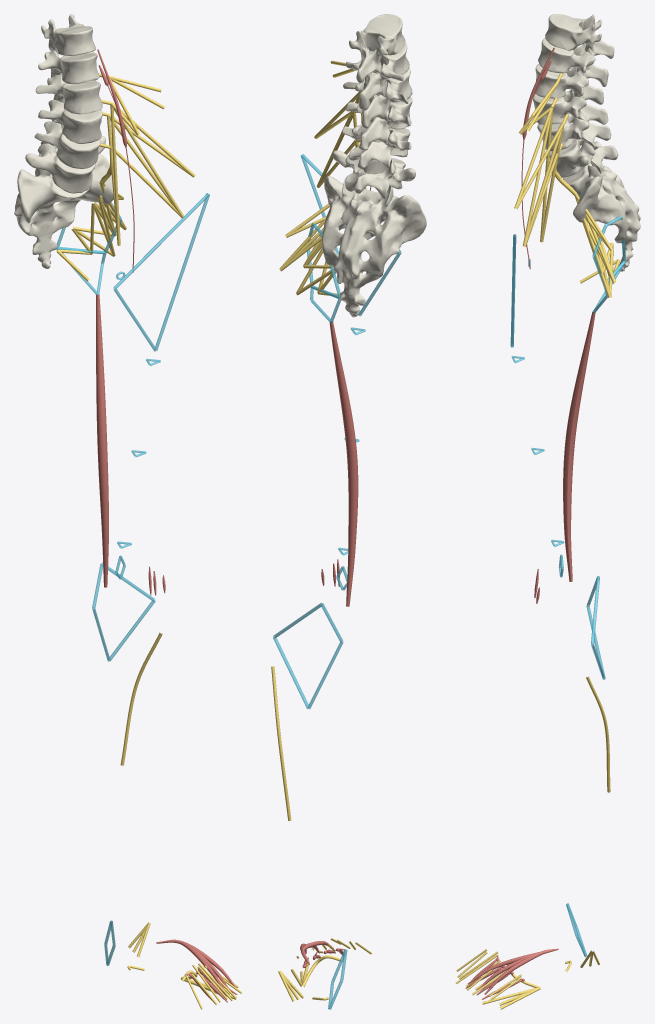
File: lower-neuro-muscle-regions.glb
3 renders of one model, left to right at view 1: azimuth 30°, elevation 25°; view 2: azimuth 150°, elevation 25°; view 3: azimuth 270°, elevation 25°, orthographic. The views are drawn at different scales.
Visible parts, largest first — view 1: reference-sacrum, gap-hamstring-part-of-adductor-magnus--part-0-0, reference-fifth-lumbar-vertebra, reference-second-lumbar-vertebra, reference-third-lumbar-vertebra, reference-fourth-lumbar-vertebra, reference-twelfth-thoracic-vertebra, reference-first-lumbar-vertebra, gap-femoral-triangle--part-1-0, gap-psoas-minor--part-0-0, gap-fibular-communicating-branch--part-0-0, gap-lumbar-plexus--part-13-0; view 2: reference-sacrum, gap-hamstring-part-of-adductor-magnus--part-0-0, reference-twelfth-thoracic-vertebra, reference-fifth-lumbar-vertebra, reference-fourth-lumbar-vertebra, reference-first-lumbar-vertebra, reference-third-lumbar-vertebra, reference-second-lumbar-vertebra, gap-fibular-communicating-branch--part-0-0; view 3: reference-sacrum, gap-hamstring-part-of-adductor-magnus--part-0-0, reference-twelfth-thoracic-vertebra, reference-first-lumbar-vertebra, reference-fifth-lumbar-vertebra, reference-second-lumbar-vertebra, reference-third-lumbar-vertebra, reference-fourth-lumbar-vertebra, gap-psoas-minor--part-0-0, gap-lumbar-plexus--part-10-0, gap-fibular-communicating-branch--part-0-0, gap-femoral-triangle--part-1-0 (+1 smaller).
Boxes of the visible parts, x1,y1,x2,y2 form: reference-sacrum: (14,153,113,268); gap-hamstring-part-of-adductor-magnus--part-0-0: (96,294,108,587); reference-fifth-lumbar-vertebra: (25,136,105,193); reference-second-lumbar-vertebra: (35,75,102,114); reference-third-lumbar-vertebra: (38,97,102,143); reference-fourth-lumbar-vertebra: (34,119,101,168); reference-twelfth-thoracic-vertebra: (41,14,95,55); reference-first-lumbar-vertebra: (38,50,99,84); gap-femoral-triangle--part-1-0: (154,194,209,350); gap-psoas-minor--part-0-0: (97,49,134,272); gap-fibular-communicating-branch--part-0-0: (120,632,162,765); gap-lumbar-plexus--part-13-0: (110,105,120,245); reference-sacrum: (321,176,426,317); gap-hamstring-part-of-adductor-magnus--part-0-0: (329,321,358,606); reference-twelfth-thoracic-vertebra: (349,14,405,82); reference-fifth-lumbar-vertebra: (332,150,415,199); reference-fourth-lumbar-vertebra: (342,124,411,169); reference-first-lumbar-vertebra: (345,42,409,110); reference-third-lumbar-vertebra: (345,97,412,150); reference-second-lumbar-vertebra: (343,68,412,128); gap-fibular-communicating-branch--part-0-0: (271,666,291,821); reference-sacrum: (563,141,640,271); gap-hamstring-part-of-adductor-magnus--part-0-0: (563,311,595,581); reference-twelfth-thoracic-vertebra: (545,14,614,58); reference-first-lumbar-vertebra: (538,38,608,86); reference-fifth-lumbar-vertebra: (549,139,618,177); reference-second-lumbar-vertebra: (535,64,603,104); reference-third-lumbar-vertebra: (533,90,608,124); reference-fourth-lumbar-vertebra: (537,113,611,151); gap-psoas-minor--part-0-0: (521,48,554,269); gap-lumbar-plexus--part-10-0: (523,108,553,246); gap-fibular-communicating-branch--part-0-0: (586,676,610,792); gap-femoral-triangle--part-1-0: (510,234,516,347).
Bounding box in the file's own units: 0.3501 × 1.9 × 0.3421.
